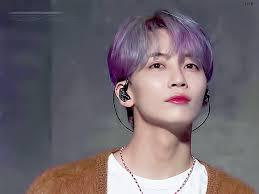earphone: (117, 88, 132, 101), (203, 89, 213, 102)
